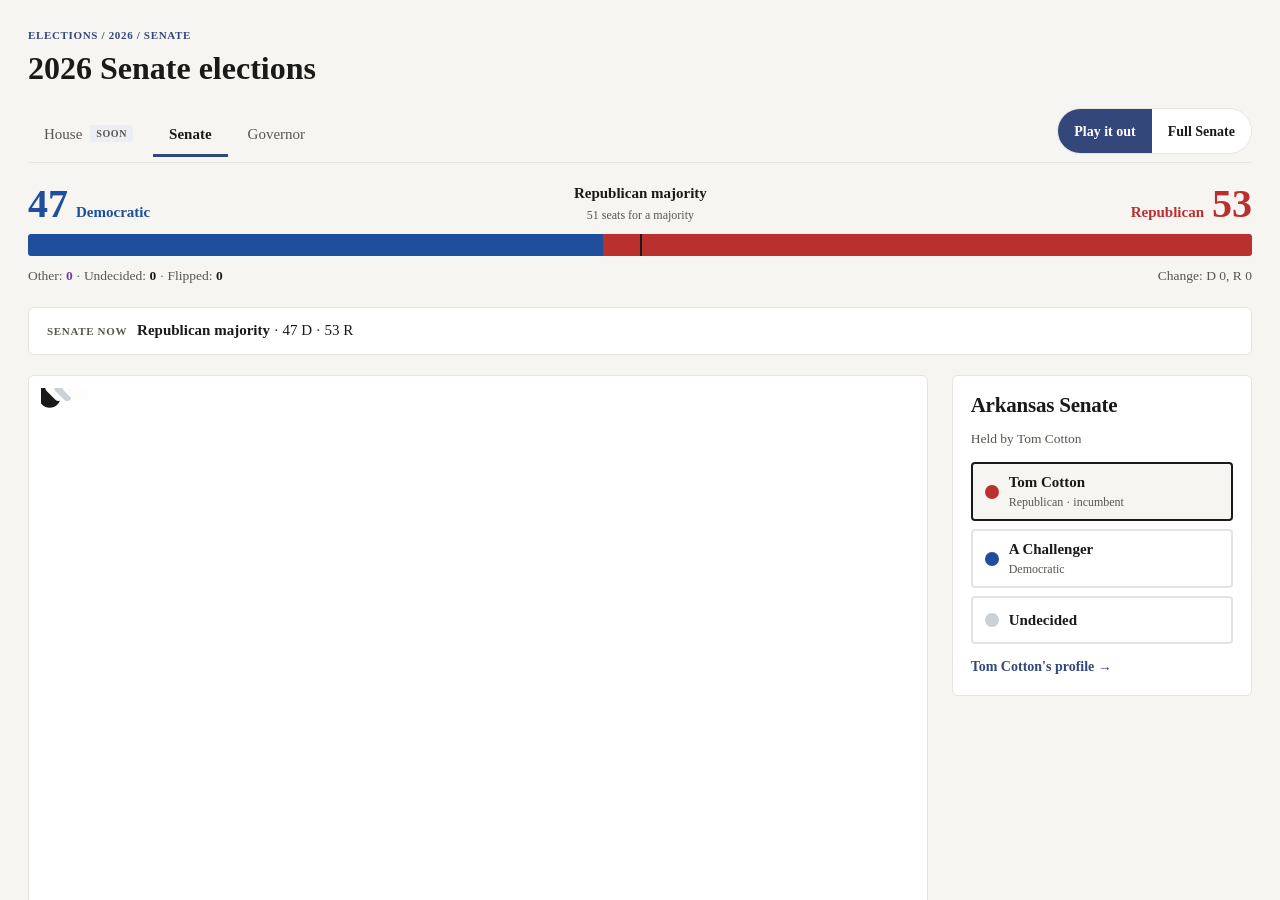
Test: ElectionMap › the side panel picks a winner by name and links the member who has a profile
Expected: the heading "Arkansas Senate" is shown, [971,393,1118,417]
Click the button "A Challenger Democratic": (1051, 549) [971,529,1233,588]
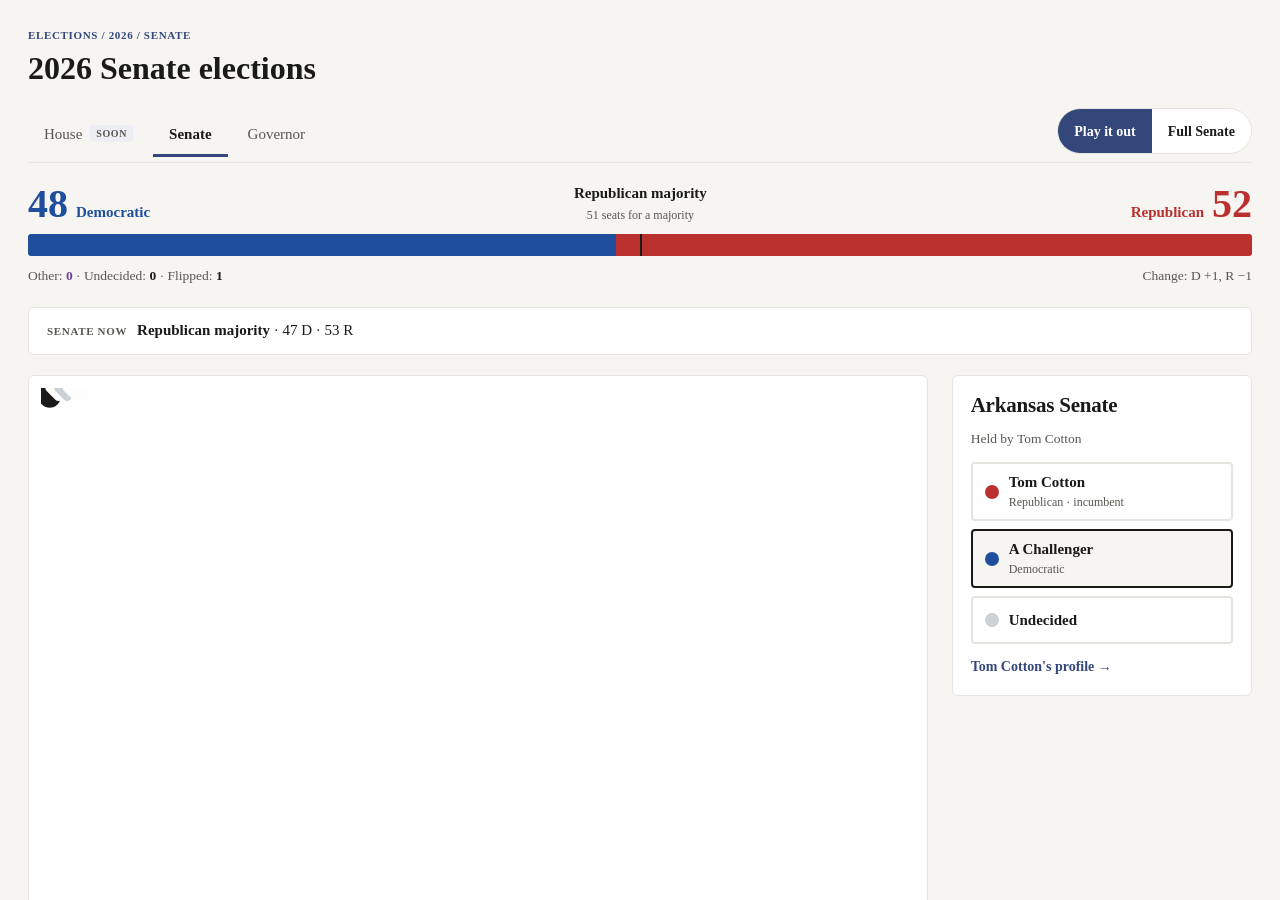
Now the text "48" is shown, box [28,184,68,224]
